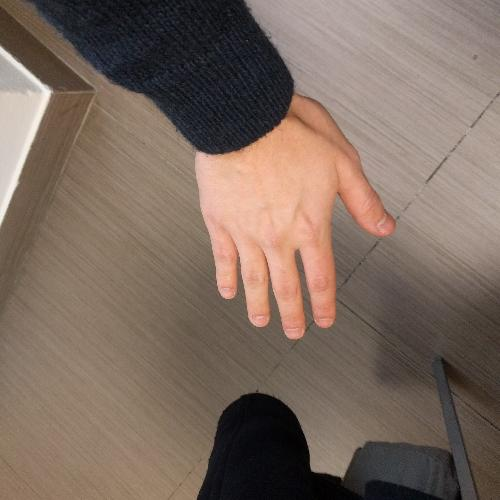paper: (188, 85, 400, 344)
